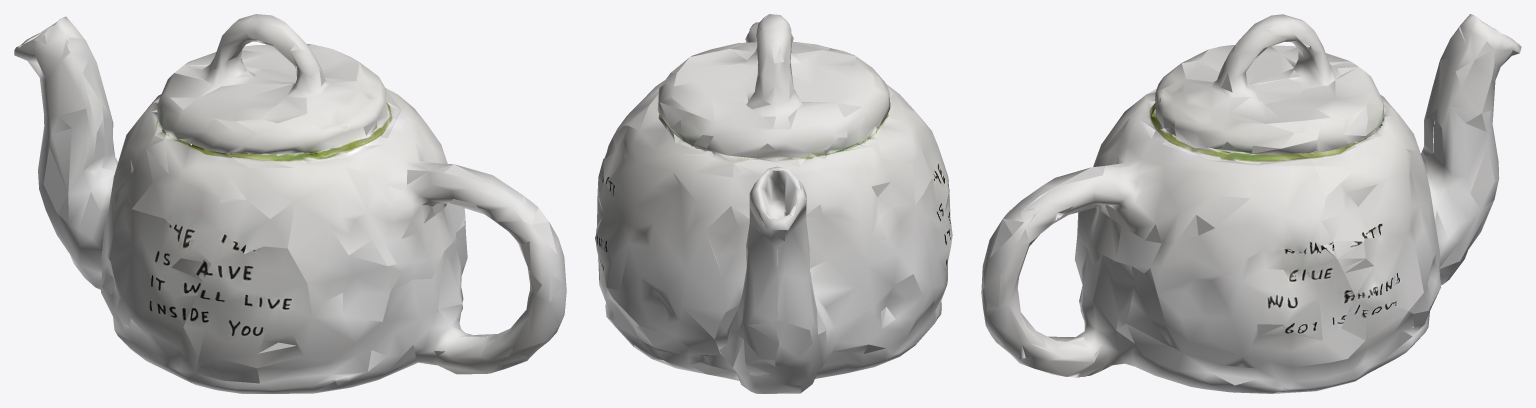
Rendered from 08_3_ds-ss_tat_teapot.glb.
3 views of the same model, side by side, from view 1: azimuth 30°, elevation 25°; view 2: azimuth 150°, elevation 25°; view 3: azimuth 270°, elevation 25° (orthographic).
Visible parts, largest first — view 1: tripo_material_9f536df9-35b4-46f4-8985-78ab2d59200f.003; view 2: tripo_material_9f536df9-35b4-46f4-8985-78ab2d59200f.003; view 3: tripo_material_9f536df9-35b4-46f4-8985-78ab2d59200f.003.
Boxes of the visible parts, x1,y1,x2,y2 form: tripo_material_9f536df9-35b4-46f4-8985-78ab2d59200f.003: (14, 14, 566, 393); tripo_material_9f536df9-35b4-46f4-8985-78ab2d59200f.003: (595, 14, 952, 393); tripo_material_9f536df9-35b4-46f4-8985-78ab2d59200f.003: (981, 14, 1521, 393).
Size of the model in its own units: 0.1538 by 0.1441 by 0.227.
1 material, 1 textured.
